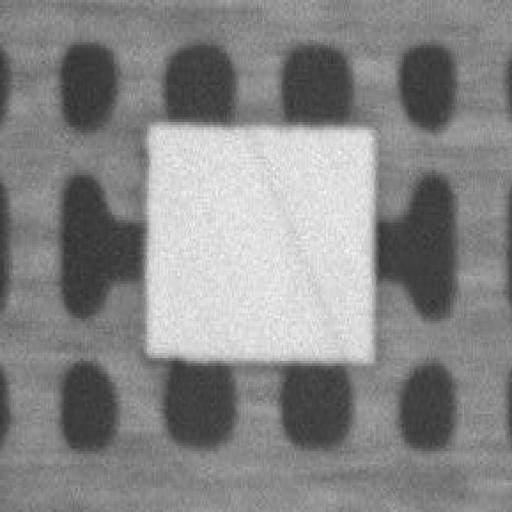DIE_CRACK: (248, 124, 345, 348)
